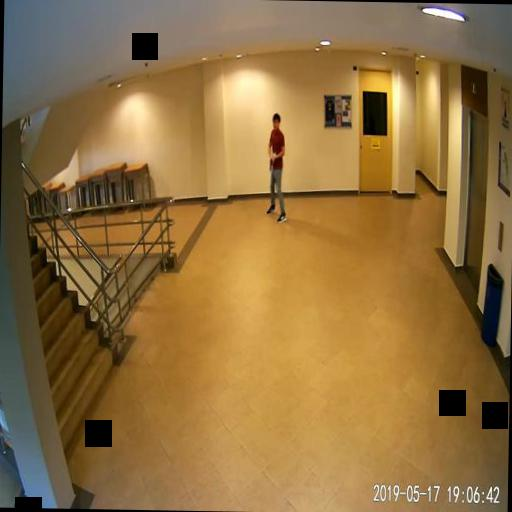Handgun: (268, 154, 272, 169)
